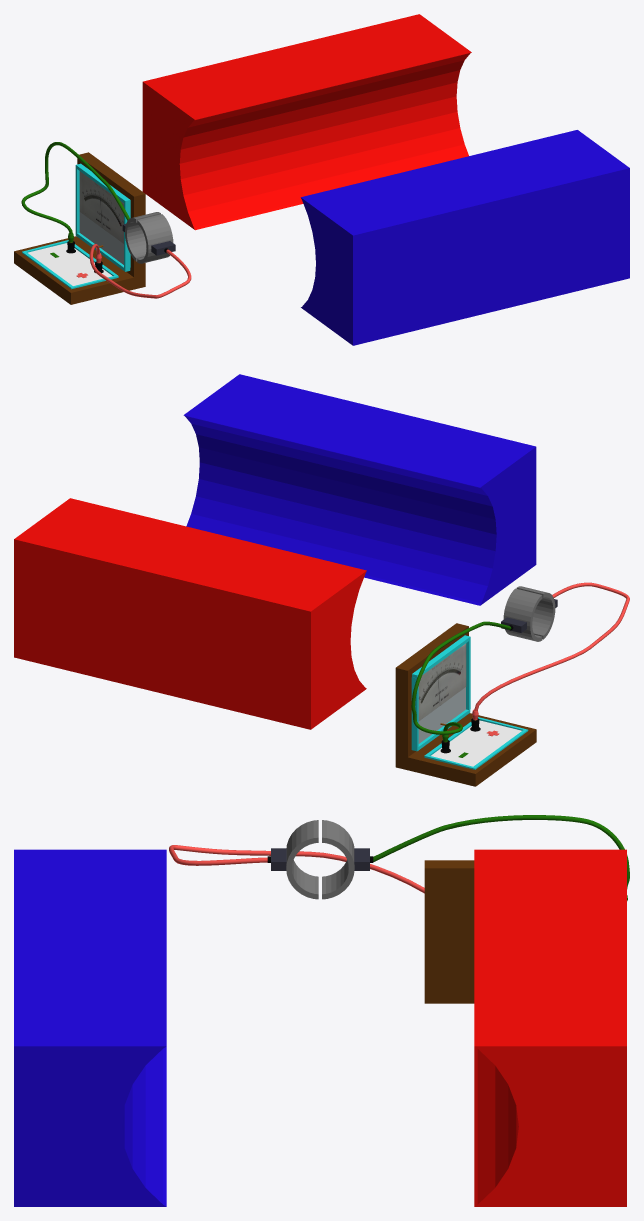
Rendered from DC_gen  generator.gltf.
3 renders of one model, top to bottom at view 1: azimuth 30°, elevation 25°; view 2: azimuth 150°, elevation 25°; view 3: azimuth 270°, elevation 25°, orthographic. The views are drawn at different scales.
Visible parts, largest first — view 1: Cube, Cube.003, Cube.025, Cube.027, Cylinder, Cube.006, Cube.026, BezierCurve.002, Cube.030, BezierCurve.001; view 2: Cube.003, Cube, Cube.025, Cube.026, Cube.027, Cylinder, Cube.006, BezierCurve.001, Cube.030, BezierCurve.002; view 3: Cube, Cube.003, Cube.026, Cylinder, BezierCurve.001, BezierCurve.002, Cube.025.
Part boxes in pixels (x1=…): Cube: x1=301, y1=130, x2=629, y2=345; Cube.003: x1=142, y1=14, x2=471, y2=230; Cube.025: x1=14, y1=236, x2=145, y2=304; Cube.027: x1=79, y1=171, x2=123, y2=243; Cylinder: x1=125, y1=212, x2=173, y2=263; Cube.006: x1=28, y1=243, x2=112, y2=285; Cube.026: x1=77, y1=152, x2=145, y2=289; BezierCurve.002: x1=21, y1=142, x2=129, y2=233; Cube.030: x1=79, y1=212, x2=123, y2=264; BezierCurve.001: x1=89, y1=244, x2=191, y2=298; Cube.003: x1=14, y1=498, x2=366, y2=729; Cube: x1=183, y1=374, x2=536, y2=605; Cube.025: x1=395, y1=713, x2=536, y2=786; Cube.026: x1=395, y1=623, x2=468, y2=770; Cube.027: x1=418, y1=643, x2=466, y2=721; Cylinder: x1=503, y1=586, x2=555, y2=641; Cube.006: x1=431, y1=720, x2=521, y2=766; BezierCurve.001: x1=474, y1=582, x2=629, y2=710; Cube.030: x1=418, y1=687, x2=465, y2=743; BezierCurve.002: x1=411, y1=621, x2=511, y2=734; Cube: x1=14, y1=849, x2=166, y2=1206; Cube.003: x1=474, y1=849, x2=626, y2=1206; Cube.026: x1=424, y1=860, x2=474, y2=1003; Cylinder: x1=286, y1=820, x2=354, y2=899; BezierCurve.001: x1=169, y1=845, x2=424, y2=893; BezierCurve.002: x1=373, y1=815, x2=629, y2=900; Cube.025: x1=424, y1=986, x2=474, y2=1003.
Bounding box in the file's own units: 8.81 × 2.71 × 7.52.
14 materials, 1 textured.
